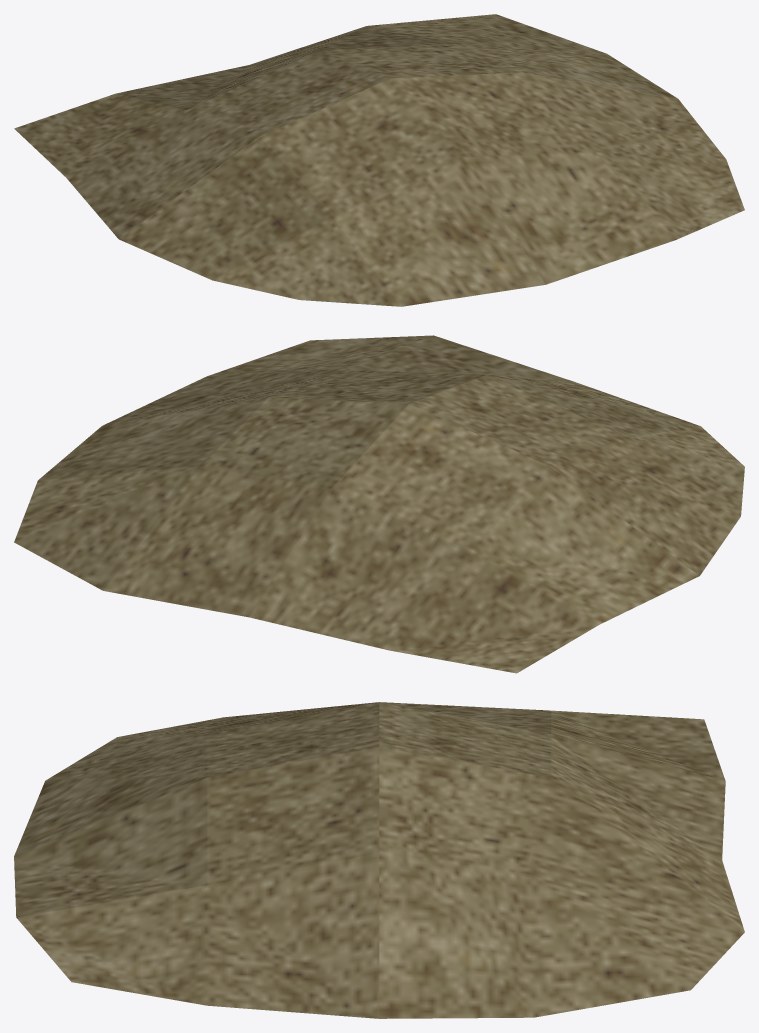
File: SM_EC_Hay_Patch_0.fbx
3 renders of one model, top to bottom at view 1: azimuth 30°, elevation 25°; view 2: azimuth 150°, elevation 25°; view 3: azimuth 270°, elevation 25°, orthographic. The views are drawn at different scales.
Visible parts, largest first — view 1: SM_EC_Hay_Patch_0; view 2: SM_EC_Hay_Patch_0; view 3: SM_EC_Hay_Patch_0.
Part boxes in pixels (bbox=[...]): SM_EC_Hay_Patch_0: bbox=[14, 14, 744, 306]; SM_EC_Hay_Patch_0: bbox=[14, 335, 744, 673]; SM_EC_Hay_Patch_0: bbox=[14, 702, 744, 1018].
Bounding box in the file's own units: 2.04 × 1.96 × 0.3289.
